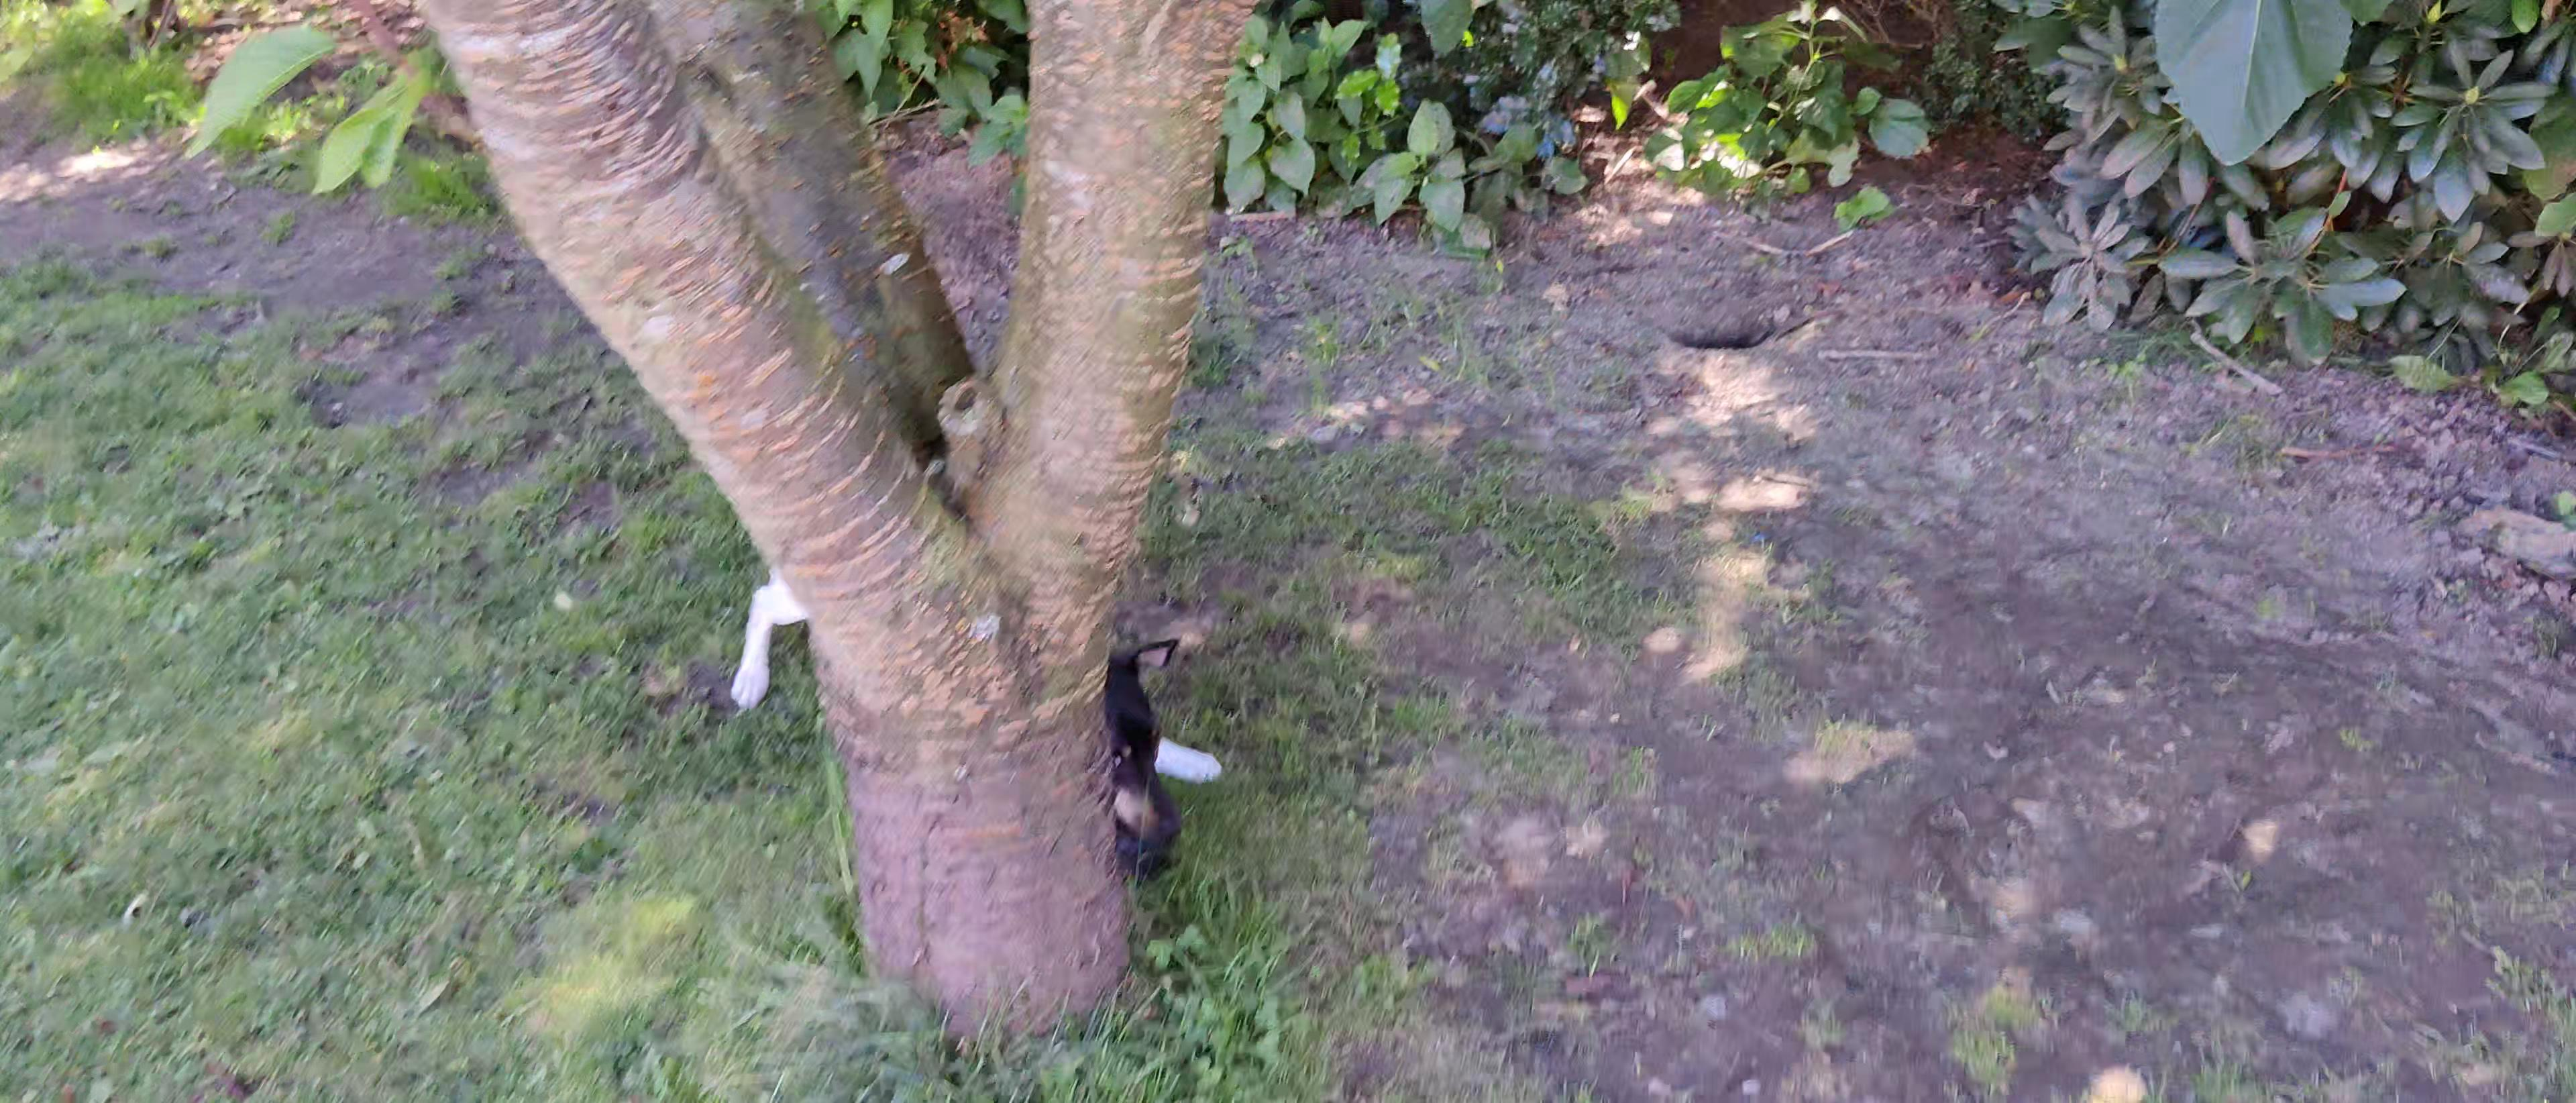Dog: (685, 536, 1232, 858)
